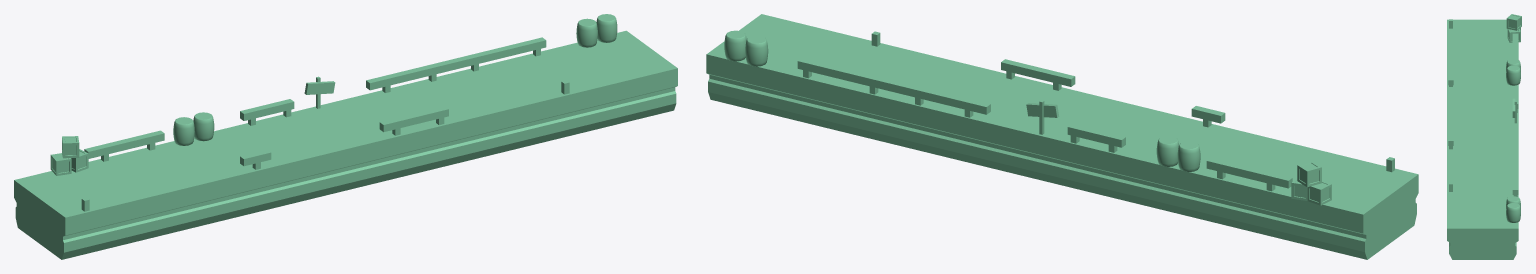
Rendered from SM_Platform_Big.fbx.
The picture shows the model from 3 angles, left to right: view 1: azimuth 30°, elevation 25°; view 2: azimuth 150°, elevation 25°; view 3: azimuth 270°, elevation 25°; orthographic projection. The views are drawn at different scales.
Parts seen in each view (by area): view 1: Platform_Big; view 2: Platform_Big; view 3: Platform_Big.
Part boxes in pixels (left/top/right/bottom): Platform_Big: left=14, top=14, right=677, bottom=259; Platform_Big: left=706, top=14, right=1418, bottom=259; Platform_Big: left=1447, top=14, right=1521, bottom=259.
Bounding box in the file's own units: 4115 × 485 × 625.
